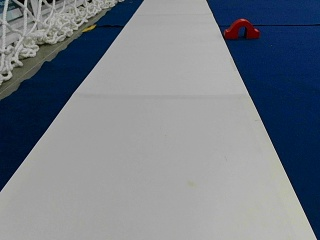bridge: (225, 18, 259, 38)
